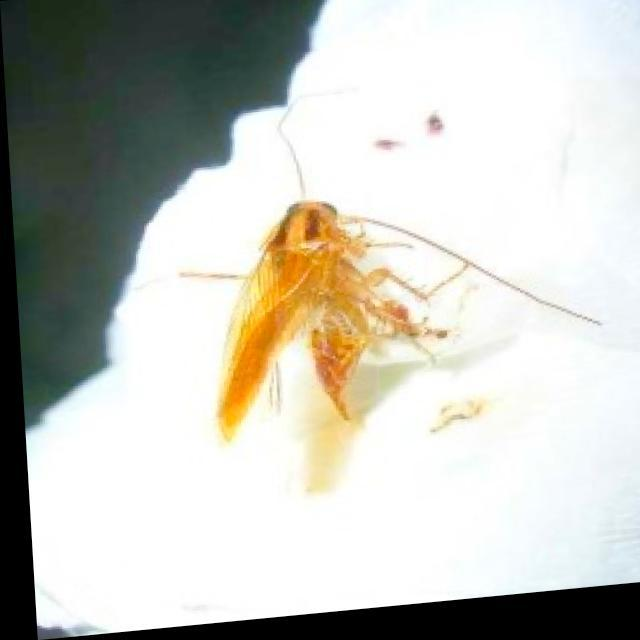cockroach: (118, 165, 551, 514)
